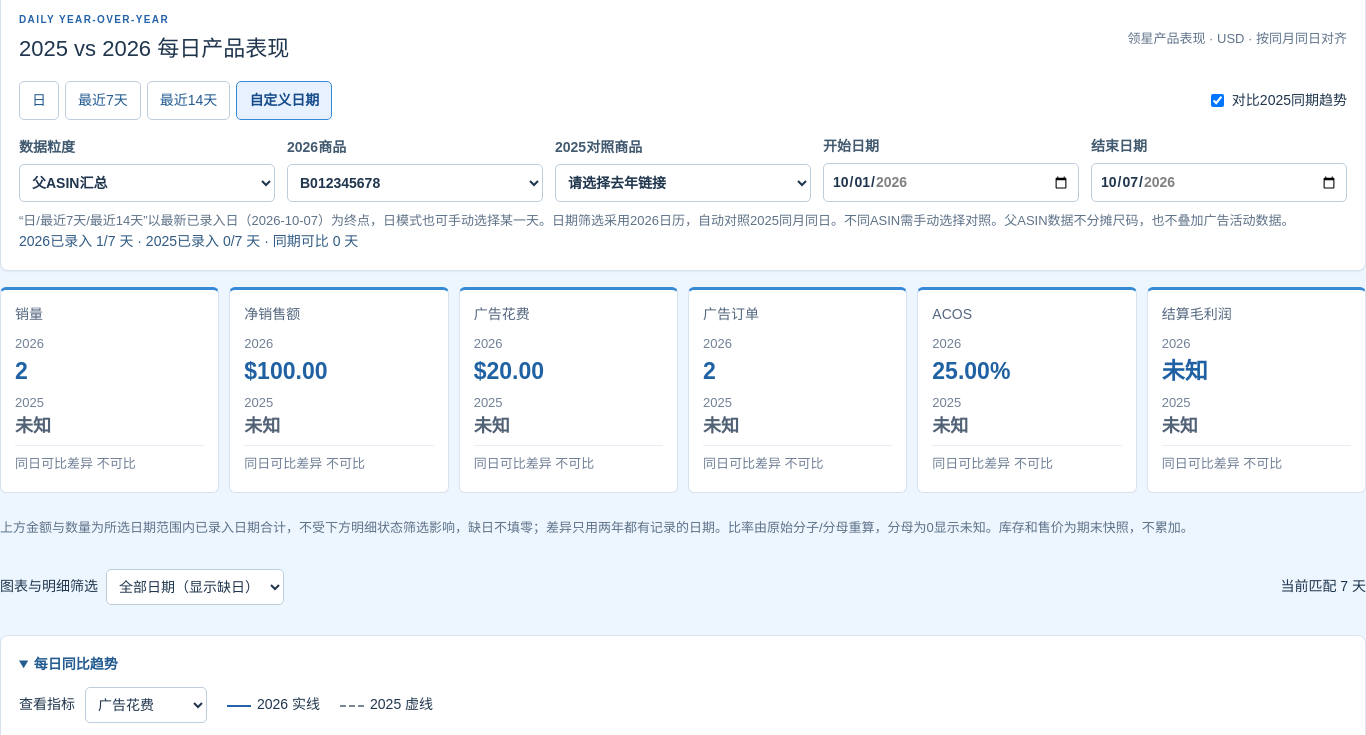
daily, seven-day and fourteen-day presets align with the latest actual day and chart detail filters
Click the button "最近7天": x=103, y=100 [65,81,141,120]
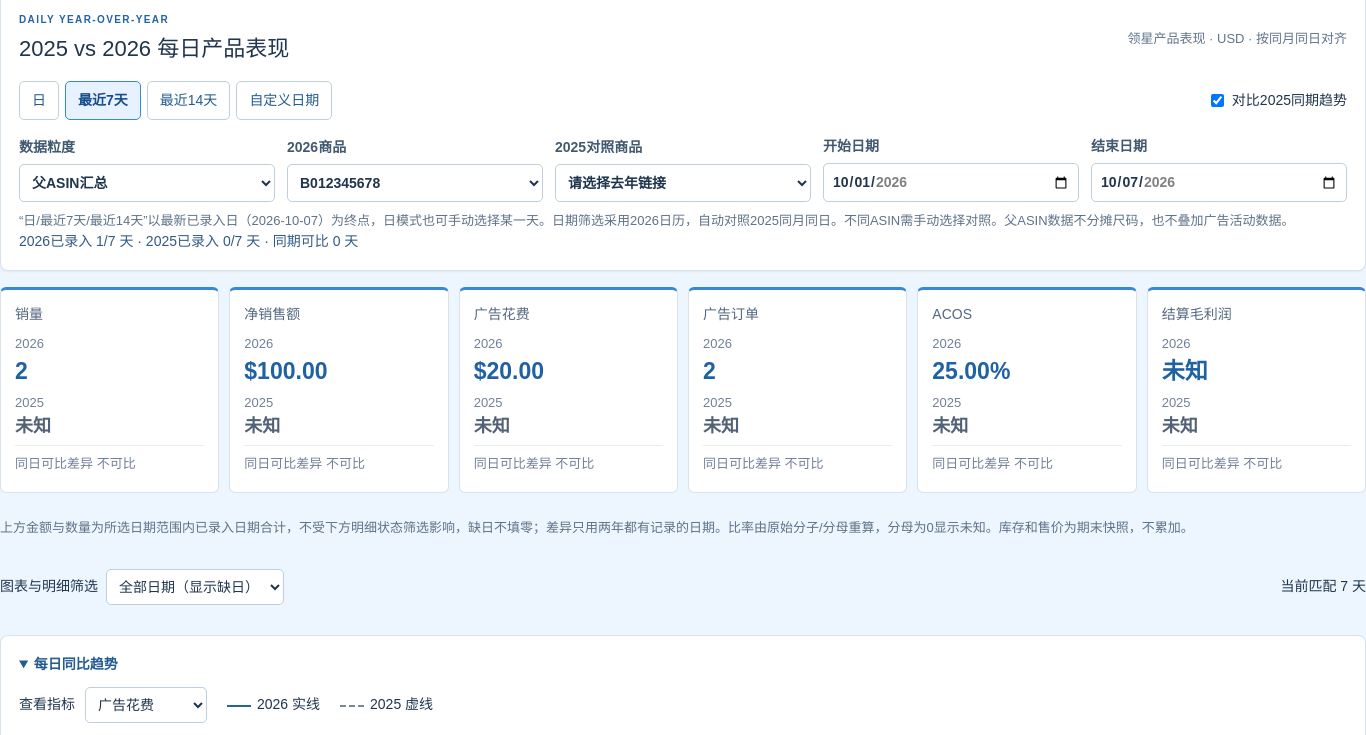
Expected: the date field named "同比开始日期" holds "2026-10-01", [823,163,1079,202]
Click the button "最近14天": x=189, y=100 [147,81,230,120]
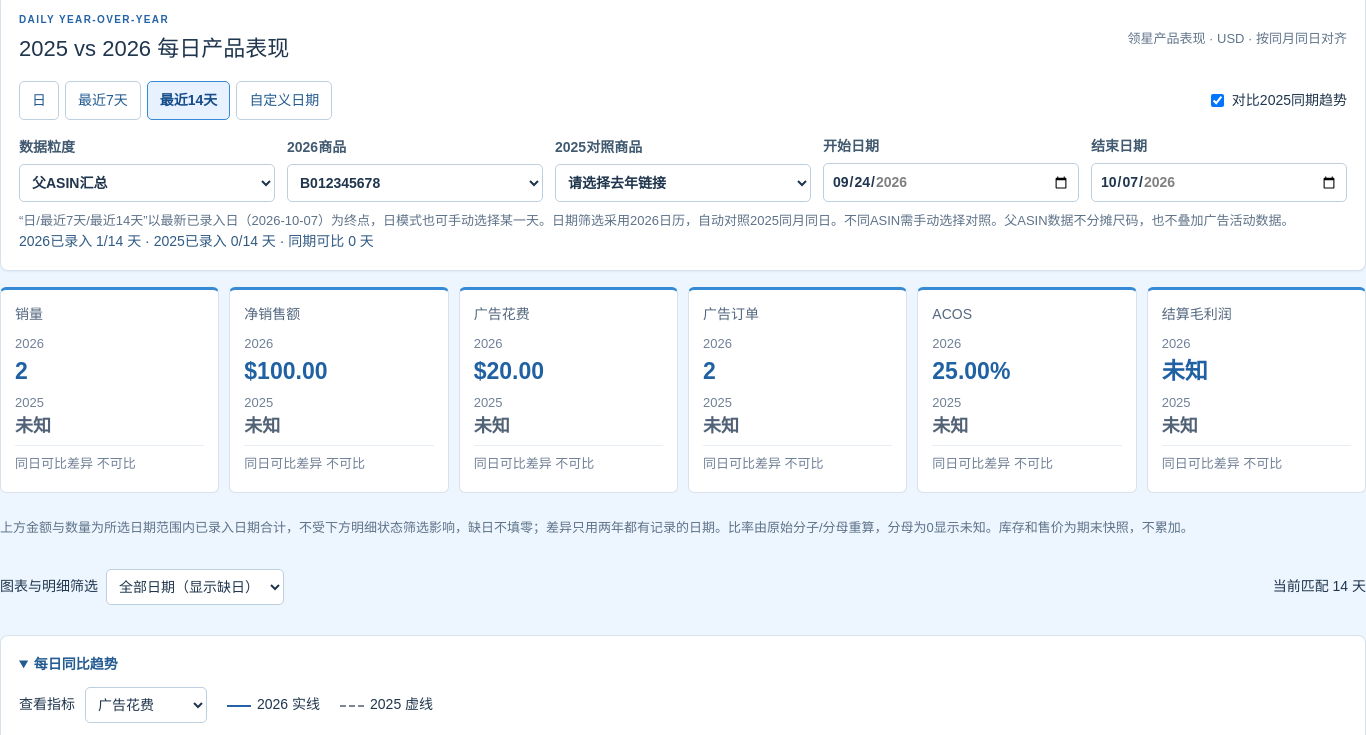
Expected: the date field named "同比开始日期" holds "2026-09-24", [823,163,1079,202]
Click the button "日": x=39, y=100 [19,81,59,120]
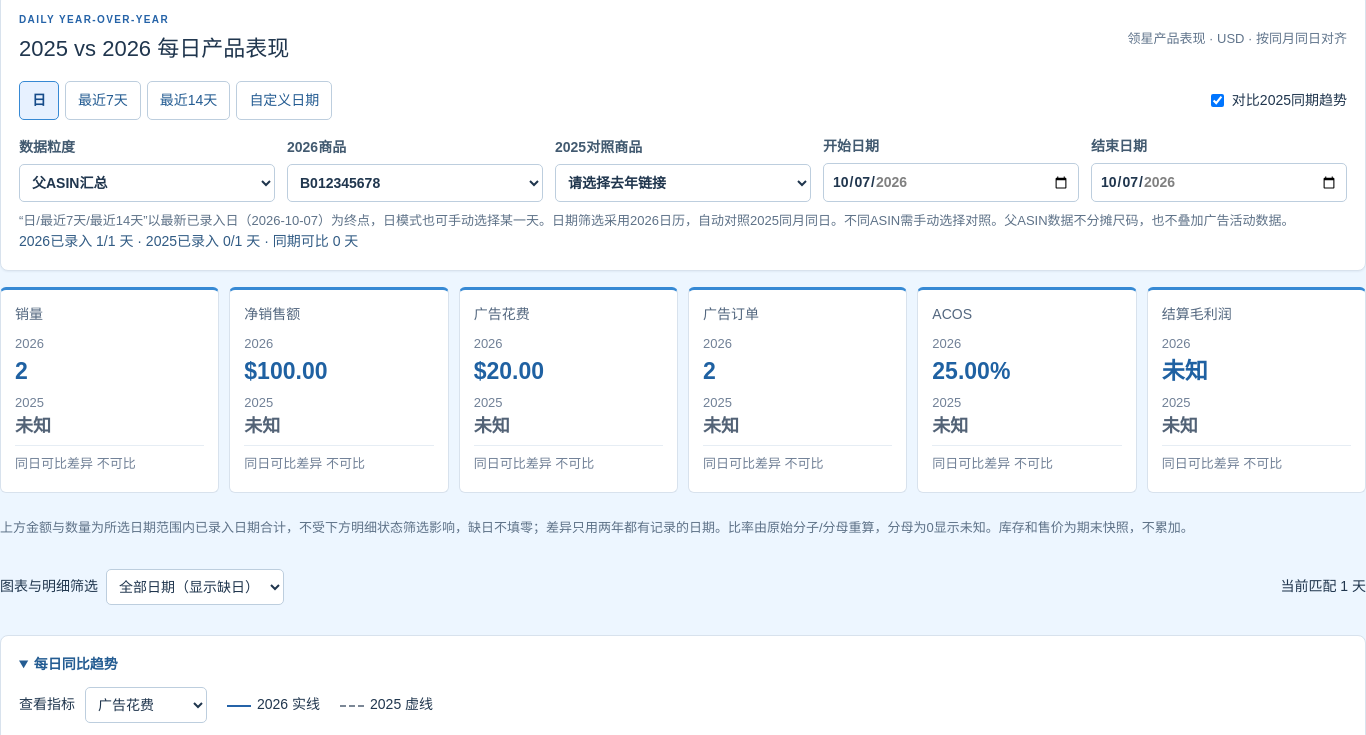
Expected: the date field named "同比开始日期" holds "2026-10-07", [823,163,1079,202]
Select "仅两年可比日期" in the dropdown named "同比明细筛选": x=195, y=587 [106,569,284,605]
(page scrolled)
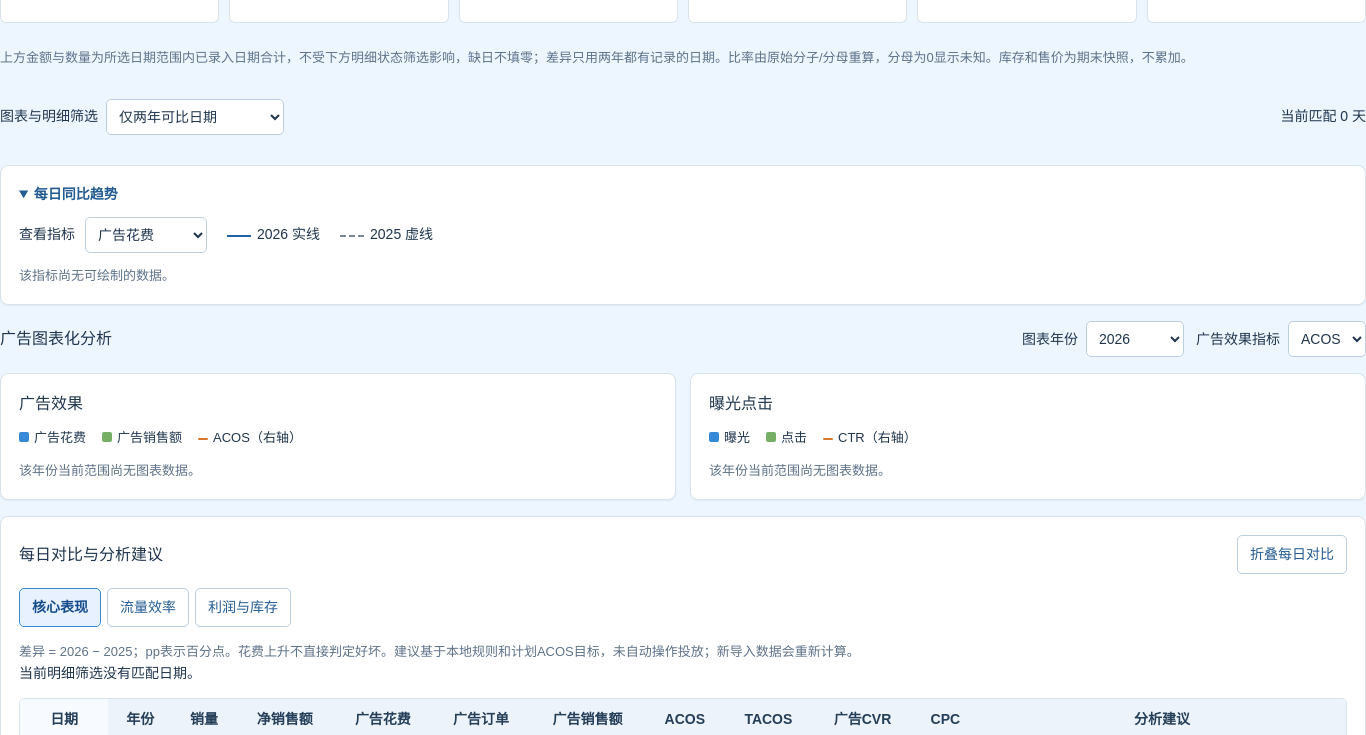
Expected: the text "当前明细筛选没有匹配日期。" is shown, [19,665,201,681]
